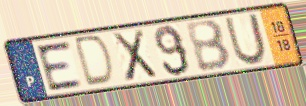9: (153, 23, 192, 78)
B: (183, 18, 234, 74)
D: (73, 33, 116, 89)
E: (33, 39, 85, 94)
U: (222, 12, 269, 67)
X: (109, 27, 160, 85)
